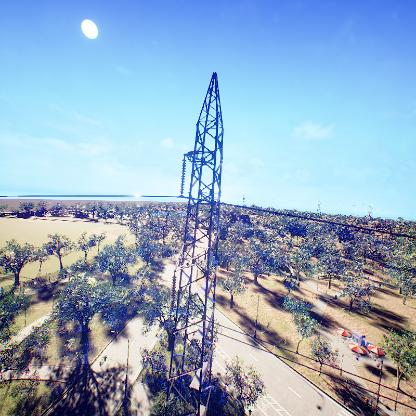tower: (164, 69, 230, 416)
